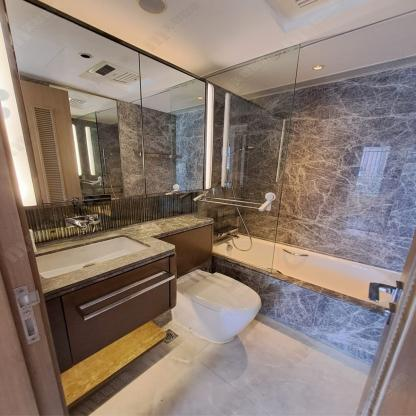Bathtub: (211, 232, 402, 365)
Toilet: (170, 268, 262, 343)
Toilet Sink: (31, 225, 175, 301)
